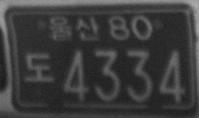0: (131, 14, 153, 41)
3: (125, 49, 151, 103), (94, 49, 119, 102)
4: (158, 49, 186, 103), (63, 50, 89, 101)
8: (106, 14, 130, 41)
도: (22, 52, 54, 82)
울산_O: (48, 15, 101, 41)
